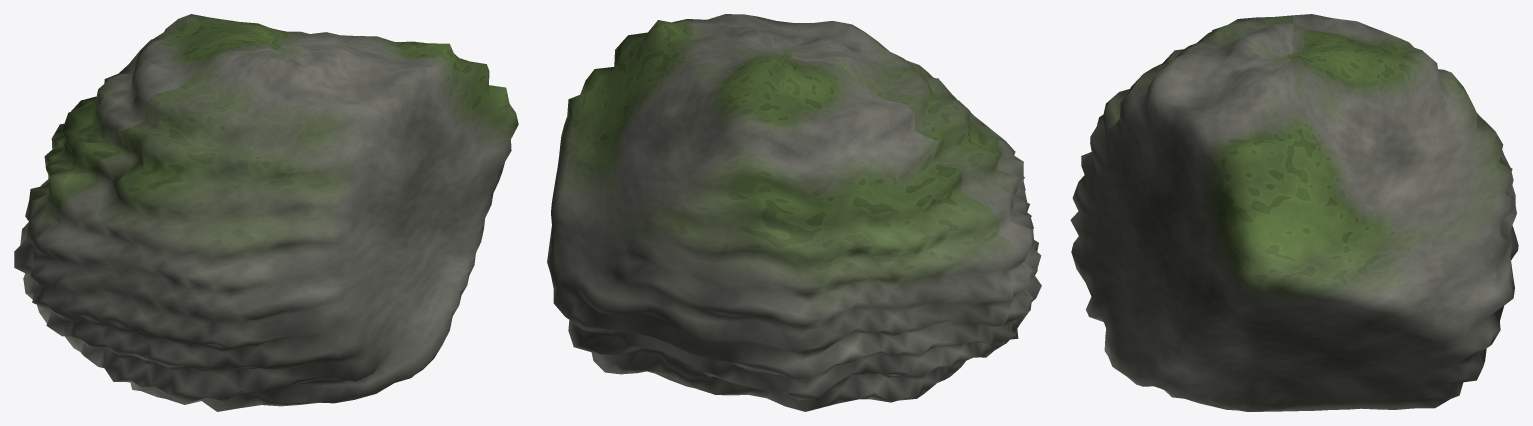
The model's file is PZ_R06_Layered_Shale_Boulder_Moss.glb.
The picture shows the model from 3 angles, left to right: view 1: azimuth 30°, elevation 25°; view 2: azimuth 150°, elevation 25°; view 3: azimuth 270°, elevation 25°; orthographic projection. The views are drawn at different scales.
Visible parts, largest first — view 1: RENDER_R06_Layered_Shale_Boulder_Moss; view 2: RENDER_R06_Layered_Shale_Boulder_Moss; view 3: RENDER_R06_Layered_Shale_Boulder_Moss.
Boxes of the visible parts, bbox=[...] form: RENDER_R06_Layered_Shale_Boulder_Moss: bbox=[14, 14, 518, 411]; RENDER_R06_Layered_Shale_Boulder_Moss: bbox=[547, 14, 1041, 411]; RENDER_R06_Layered_Shale_Boulder_Moss: bbox=[1070, 14, 1518, 411].
Size of the model in its own units: 1.75 by 1.04 by 1.41.
1 material, 1 textured.
